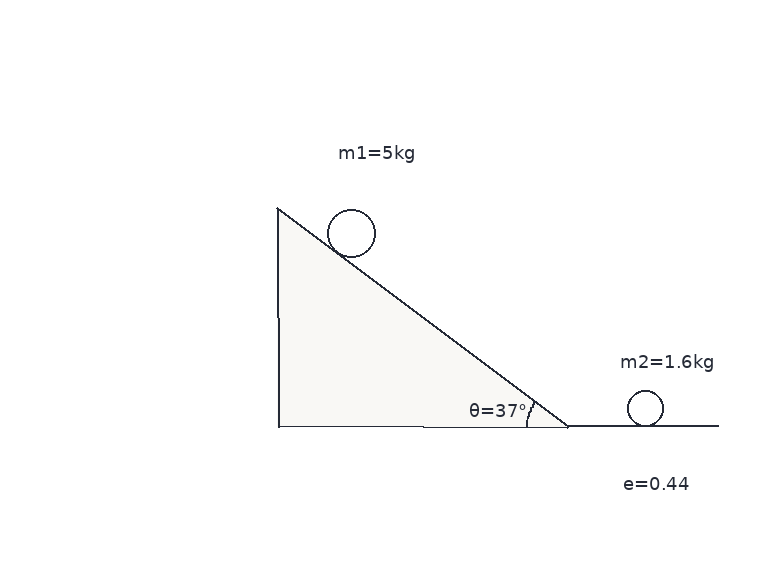ball: (325, 207, 377, 259), (625, 388, 665, 428)
ramp: (275, 206, 569, 428)
